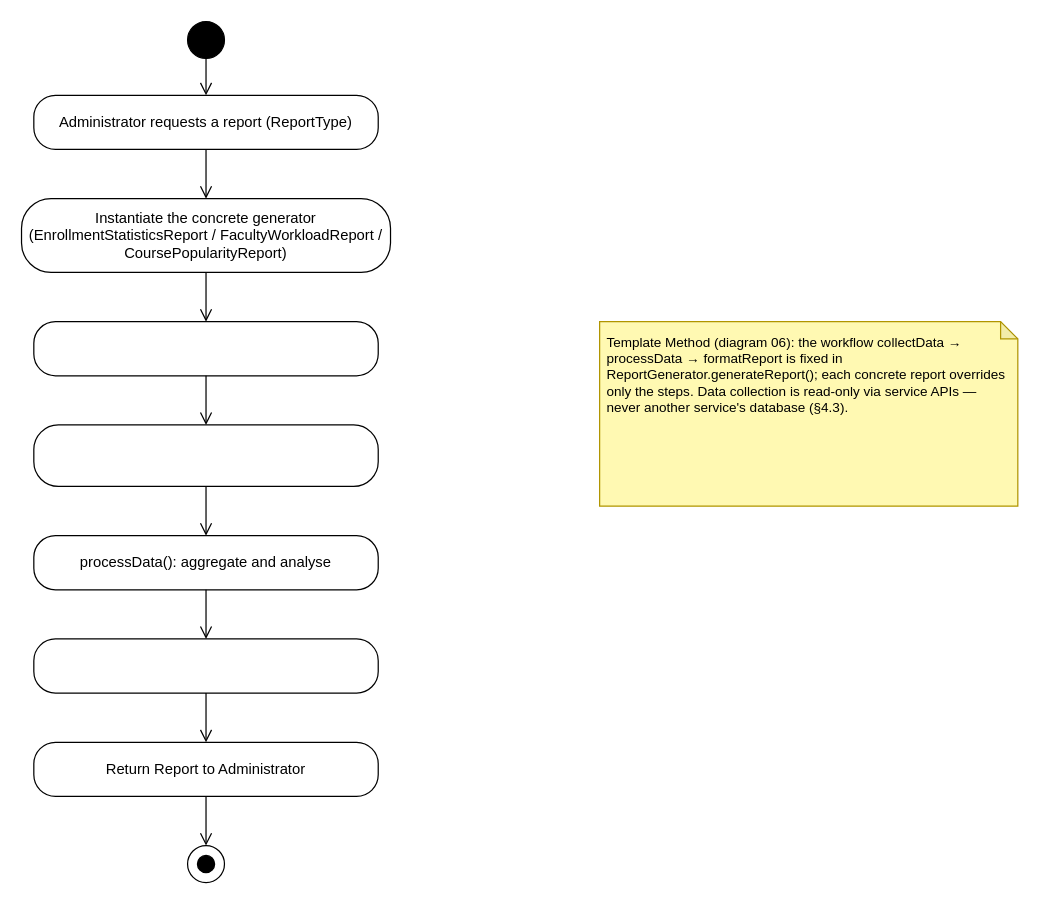
Some shapes in this 1039 by 904 pixel diagram are drawn without their labels. The shapes that lost their labels are listed below. From the top down, each one's centre as x and y in pixels, then its label:
At pixel 205 348: "generateReport() — fixed skeleton {final}".
At pixel 205 455: "collectData(): query other services' APIs (read-only)".
At pixel 205 665: "formatReport(): produce the Report".
